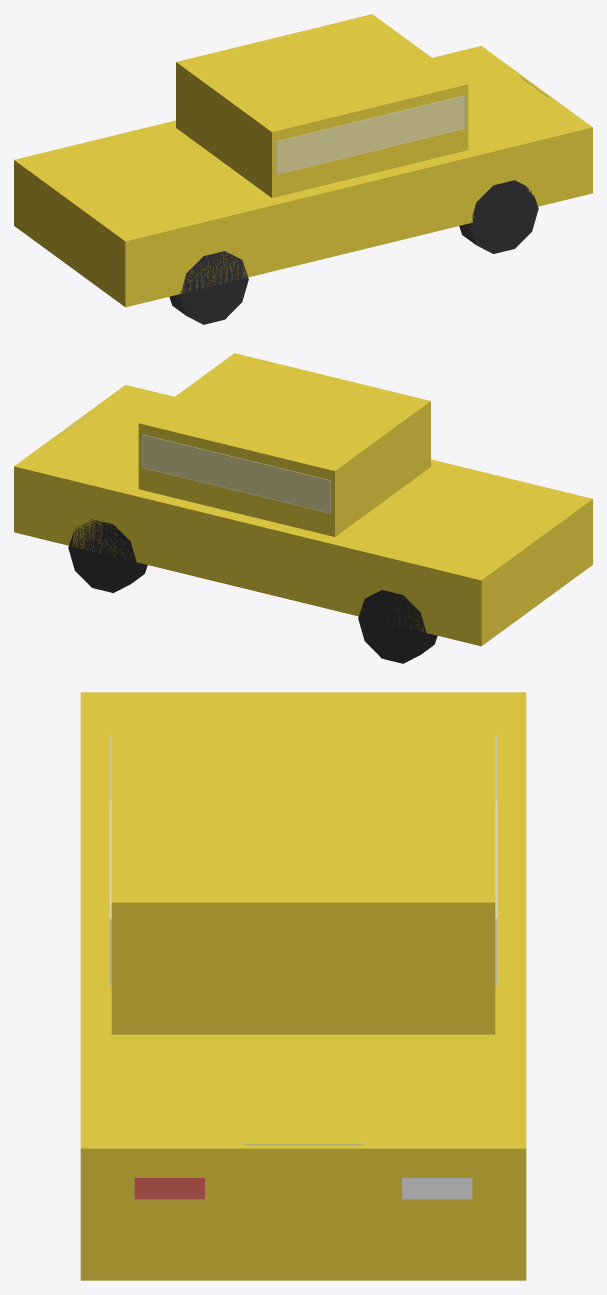
Rendered from Vehsedan_0000027.glb.
The picture shows the model from 3 angles, top to bottom: view 1: azimuth 30°, elevation 25°; view 2: azimuth 150°, elevation 25°; view 3: azimuth 270°, elevation 25°; orthographic projection. The views are drawn at different scales.
Parts seen in each view (by area): view 1: Vehsedan_0000027; view 2: Vehsedan_0000027; view 3: Vehsedan_0000027.
Part boxes in pixels (left/top/right/bottom): Vehsedan_0000027: left=14, top=14, right=592, bottom=324; Vehsedan_0000027: left=14, top=353, right=592, bottom=663; Vehsedan_0000027: left=80, top=692, right=526, bottom=1280.
Bounding box in the file's own units: 4.61 × 1.58 × 1.9.
